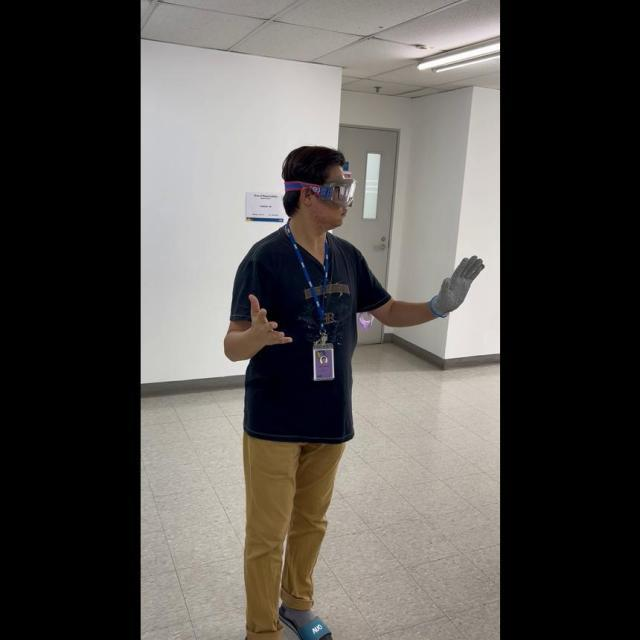bare_hand: (240, 291, 289, 350)
gloved_hand: (426, 250, 485, 315)
